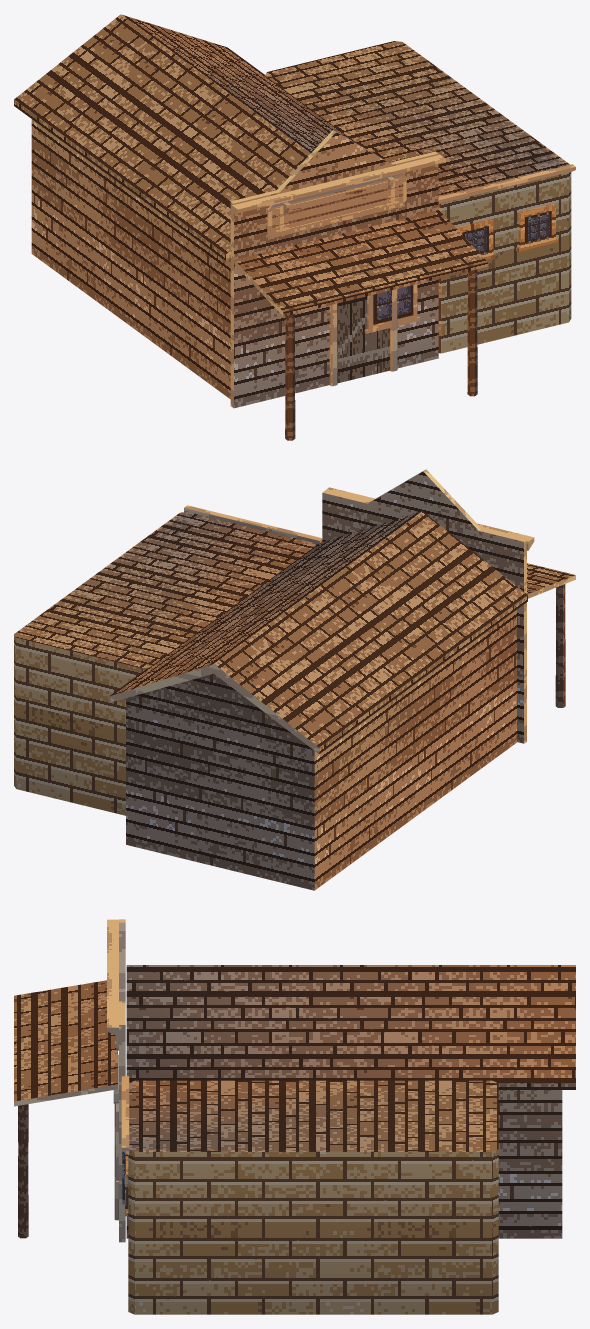
The model's file is wtown.sheriff.glb.
3 views of the same model, one above another, from view 1: azimuth 30°, elevation 25°; view 2: azimuth 150°, elevation 25°; view 3: azimuth 270°, elevation 25° (orthographic). The views are drawn at different scales.
Visible parts, largest first — view 1: kit_roof, kit_jail, kit_body, kit_front, kit_porch, kit_card_panes, kit_trim, kit_windows; view 2: kit_body, kit_roof, kit_jail, kit_front, kit_porch, kit_trim; view 3: kit_jail, kit_roof, kit_porch, kit_body, kit_trim, kit_front.
Part boxes in pixels (x1,y1,x2,y2): kit_roof: (14, 14, 439, 260); kit_jail: (265, 41, 575, 353); kit_body: (31, 119, 230, 399); kit_front: (230, 130, 438, 408); kit_porch: (234, 210, 487, 440); kit_card_panes: (272, 176, 551, 383); kit_trim: (231, 154, 445, 386); kit_windows: (364, 203, 558, 333); kit_body: (126, 610, 516, 890); kit_roof: (108, 511, 527, 753); kit_jail: (14, 505, 322, 815); kit_front: (322, 469, 526, 743); kit_porch: (527, 563, 575, 707); kit_trim: (323, 487, 534, 550); kit_jail: (121, 1076, 498, 1314); kit_roof: (126, 965, 575, 1089); kit_porch: (14, 980, 117, 1238); kit_body: (126, 1090, 562, 1238); kit_trim: (107, 919, 120, 1220); kit_front: (119, 919, 125, 1242).
Size of the model in its own units: 7.85 by 5.4 by 10.32.
9 materials, 9 textured.
